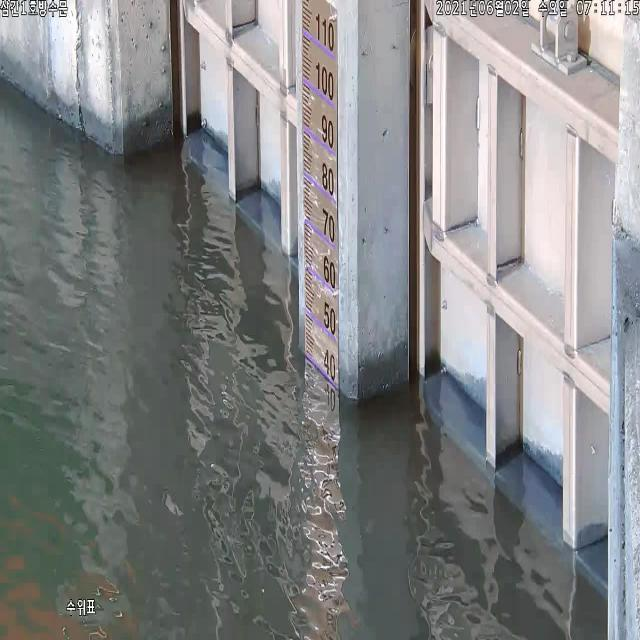ruler: (289, 0, 350, 401)
value: (312, 1, 339, 56), (313, 108, 337, 156), (314, 55, 336, 104), (319, 339, 339, 389), (317, 204, 339, 247), (318, 157, 338, 202), (320, 251, 339, 296), (319, 298, 339, 338)
